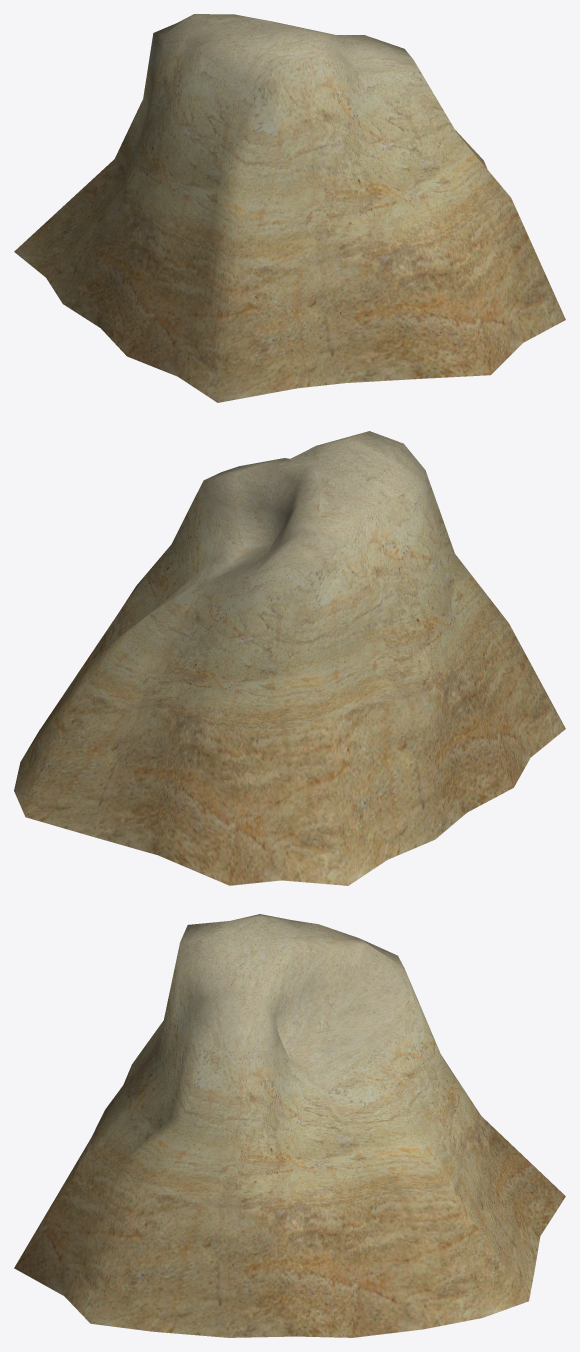
Rendered from rock_beach_spike_a3_l1.fbx.
The picture shows the model from 3 angles, top to bottom: view 1: azimuth 30°, elevation 25°; view 2: azimuth 150°, elevation 25°; view 3: azimuth 270°, elevation 25°; orthographic projection. The views are drawn at different scales.
Parts seen in each view (by area): view 1: mesh_node; view 2: mesh_node; view 3: mesh_node.
Boxes of the visible parts, bbox=[...] form: mesh_node: bbox=[14, 14, 565, 402]; mesh_node: bbox=[14, 431, 565, 885]; mesh_node: bbox=[14, 914, 565, 1337].
Size of the model in its own units: 5.74 by 3.99 by 6.88.
